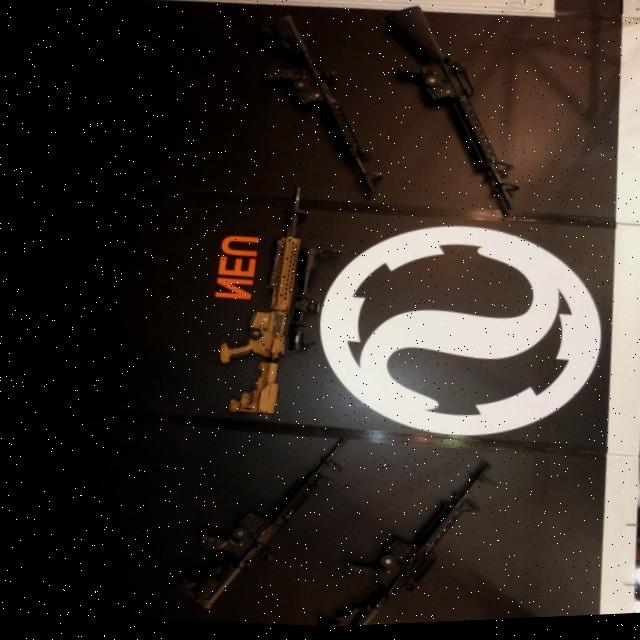firearm: (201, 181, 351, 430), (166, 422, 349, 621), (366, 2, 530, 218), (306, 448, 499, 630), (245, 8, 393, 199)
